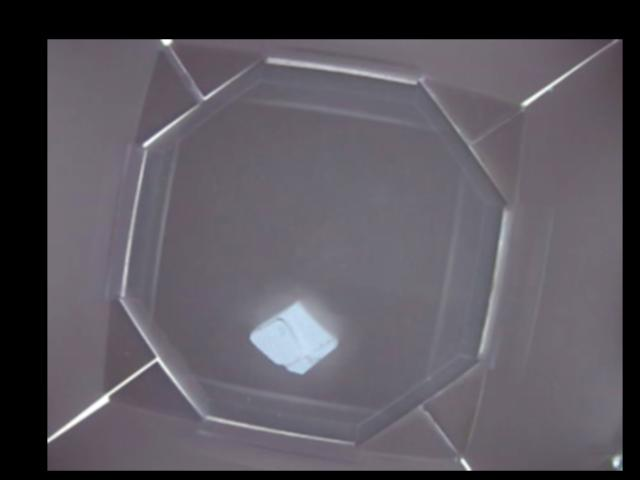China: (247, 304, 340, 372)
